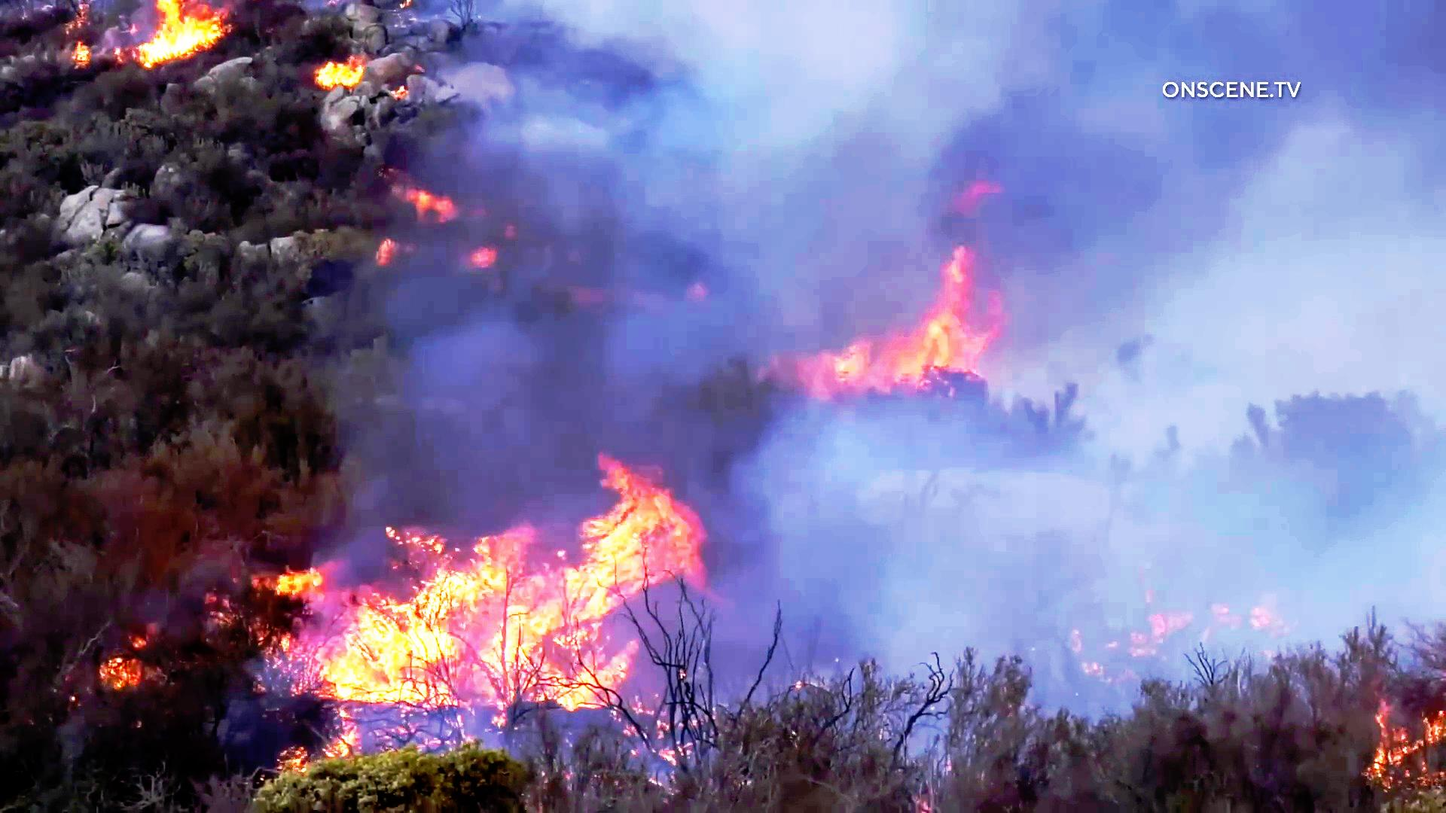fire: (252, 471, 708, 724), (782, 241, 1010, 381), (138, 0, 207, 70)
smoke: (812, 422, 1425, 645)
